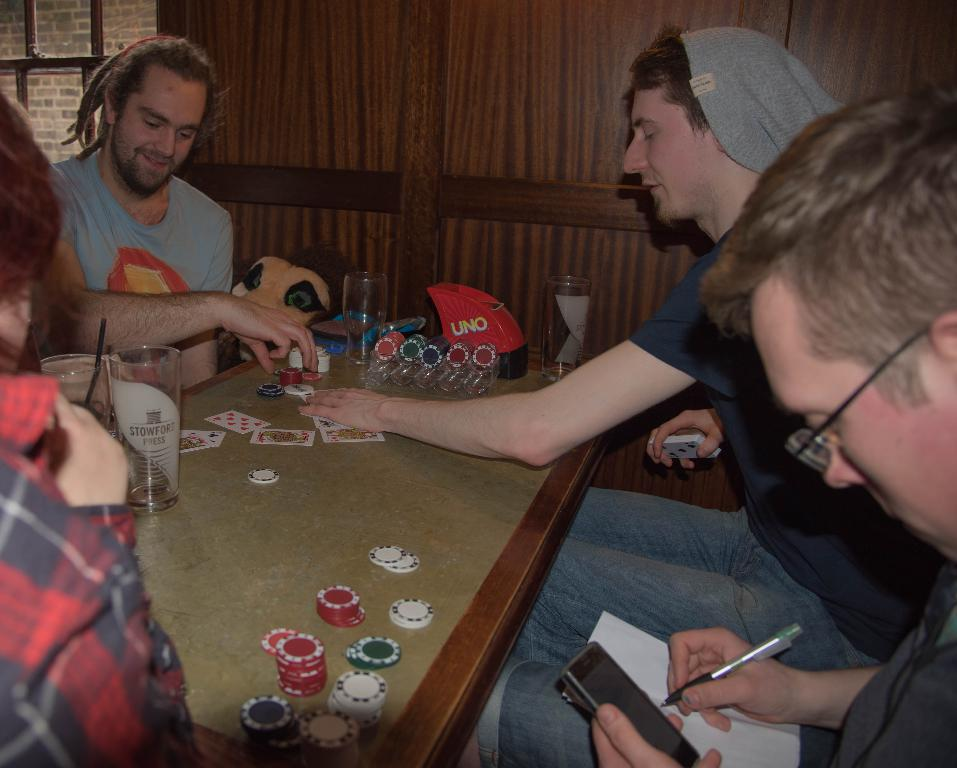Human_hand: (665, 624, 801, 735), (41, 388, 128, 509), (590, 690, 723, 767), (221, 290, 322, 377), (647, 412, 730, 471), (297, 387, 394, 433)
